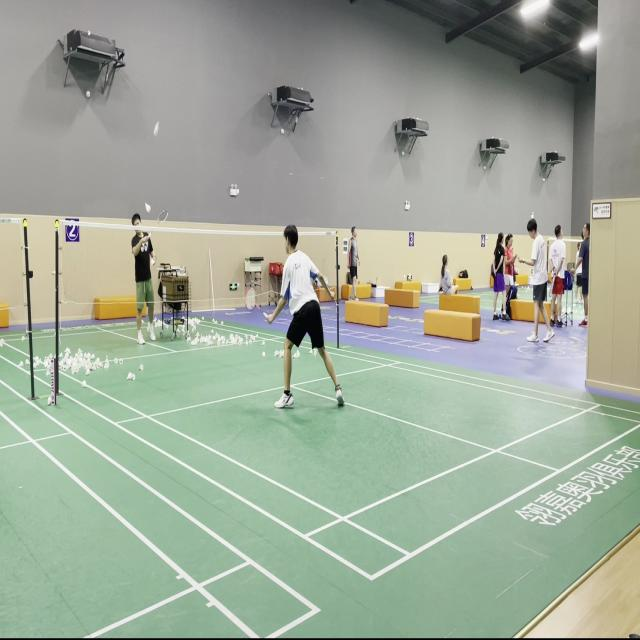shuttlecock: (153, 121, 160, 135), (144, 202, 152, 214)
